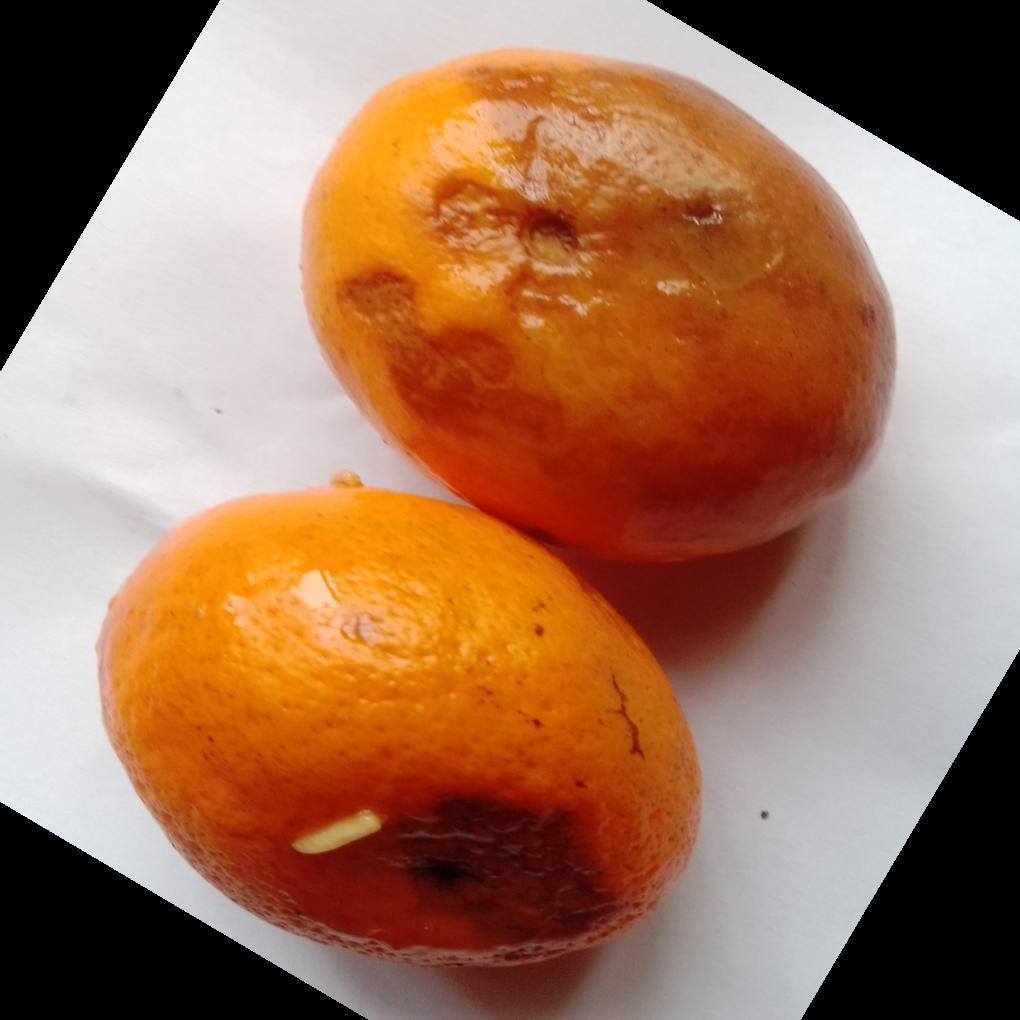FreshOrange: (95, 47, 898, 974)
